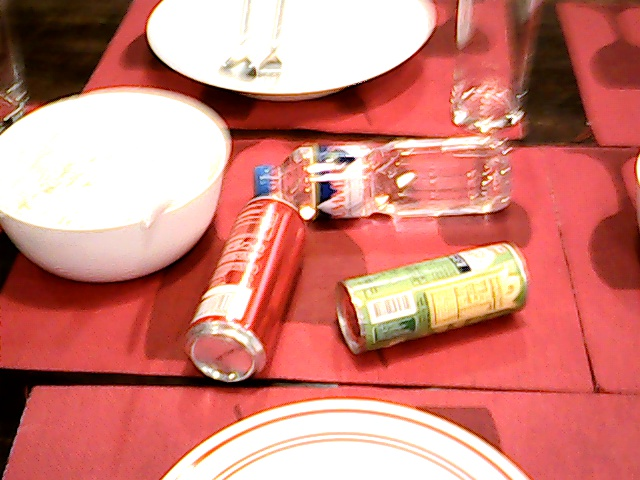Cola: (180, 204, 304, 388)
Pine Juice: (323, 238, 546, 358)
Summit Water: (253, 137, 529, 210)
